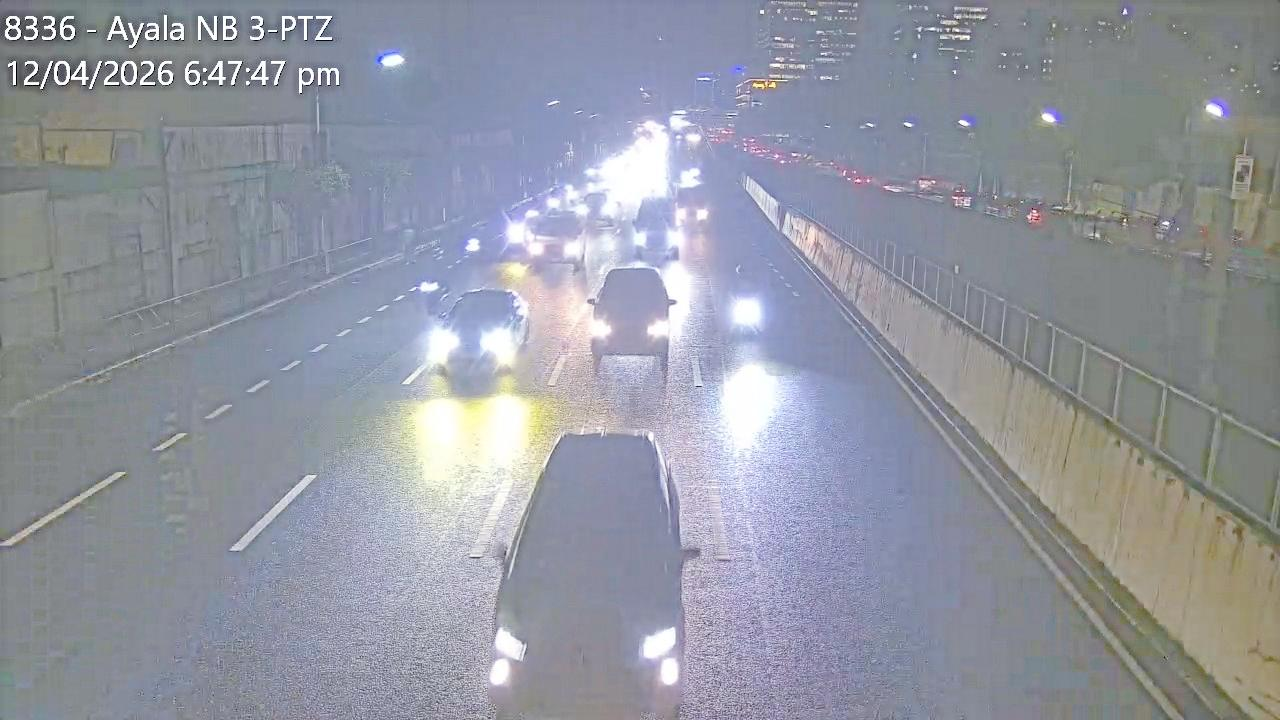Car: (487, 429, 695, 717), (585, 264, 677, 371), (432, 287, 530, 381), (522, 207, 591, 269), (632, 195, 676, 260), (672, 182, 711, 246)
Motor: (716, 258, 773, 346), (412, 251, 449, 314), (462, 223, 488, 265)
Not Accident: (418, 253, 528, 379)
